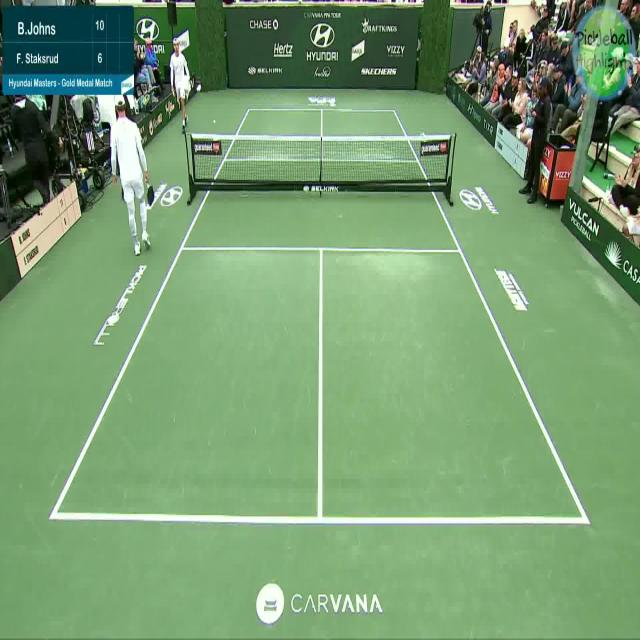Court: (51, 107, 590, 523)
ball: (209, 114, 222, 128)
